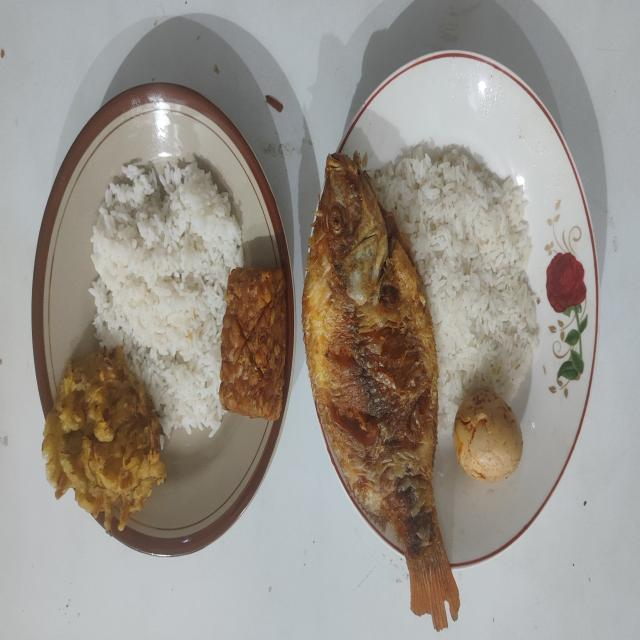ikan_mujair: (302, 152, 459, 629)
nasi_putih: (370, 143, 540, 429), (89, 160, 243, 438)
tempe_goreng: (220, 268, 286, 419)
